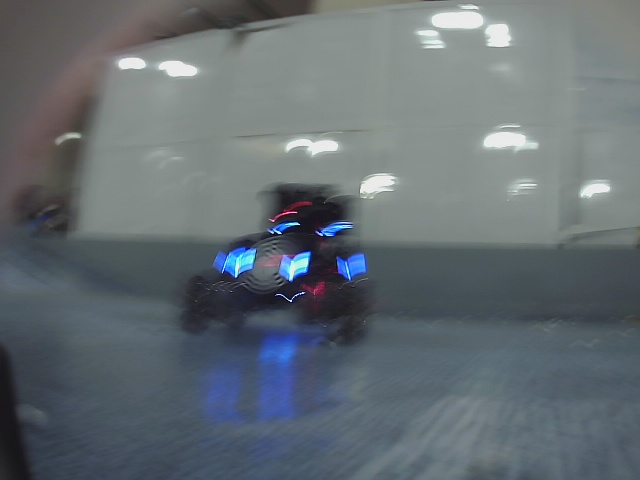lamp: (233, 251, 242, 280), (288, 253, 296, 281)
pair: (226, 251, 311, 280)
